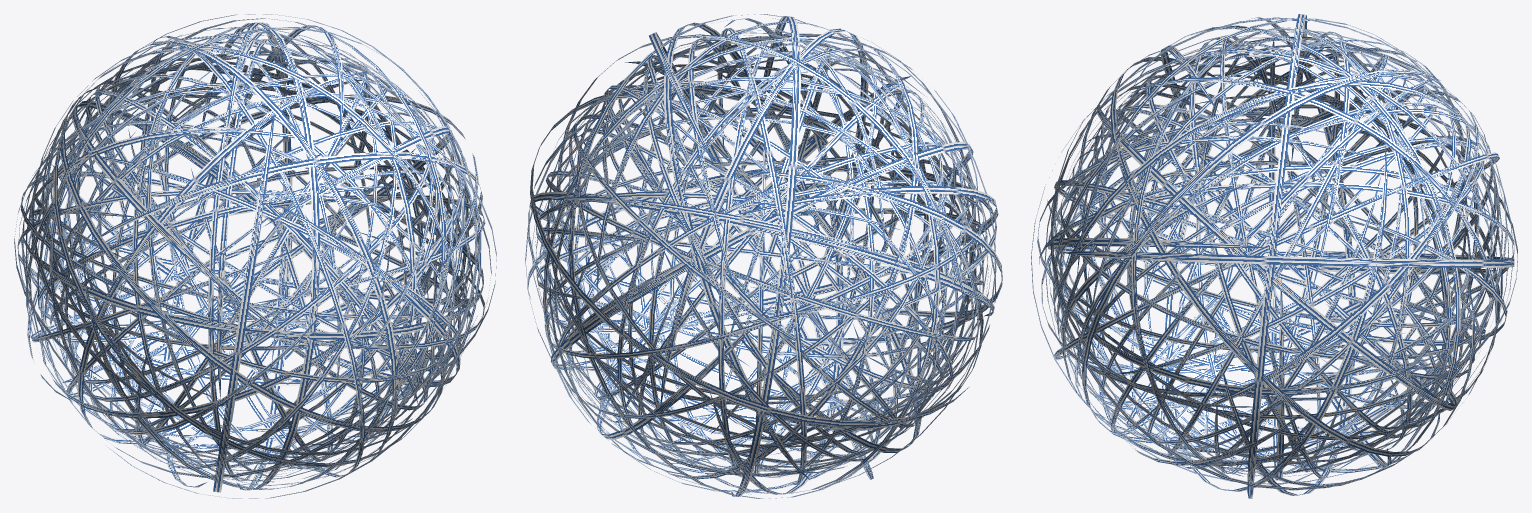
Rendered from Rui_Shpere.fbx.
The picture shows the model from 3 angles, left to right: view 1: azimuth 30°, elevation 25°; view 2: azimuth 150°, elevation 25°; view 3: azimuth 270°, elevation 25°; orthographic projection.
Parts seen in each view (by area): view 1: SM_e_Plc_P1007_Dome004_Reduce; view 2: SM_e_Plc_P1007_Dome004_Reduce; view 3: SM_e_Plc_P1007_Dome004_Reduce.
Part boxes in pixels (x1,y1,x2,y2): SM_e_Plc_P1007_Dome004_Reduce: (14,14,496,498); SM_e_Plc_P1007_Dome004_Reduce: (525,14,1002,498); SM_e_Plc_P1007_Dome004_Reduce: (1031,14,1517,498).
Size of the model in its own units: 523 by 521 by 523.
Materials: 1 (1 with a texture image).
